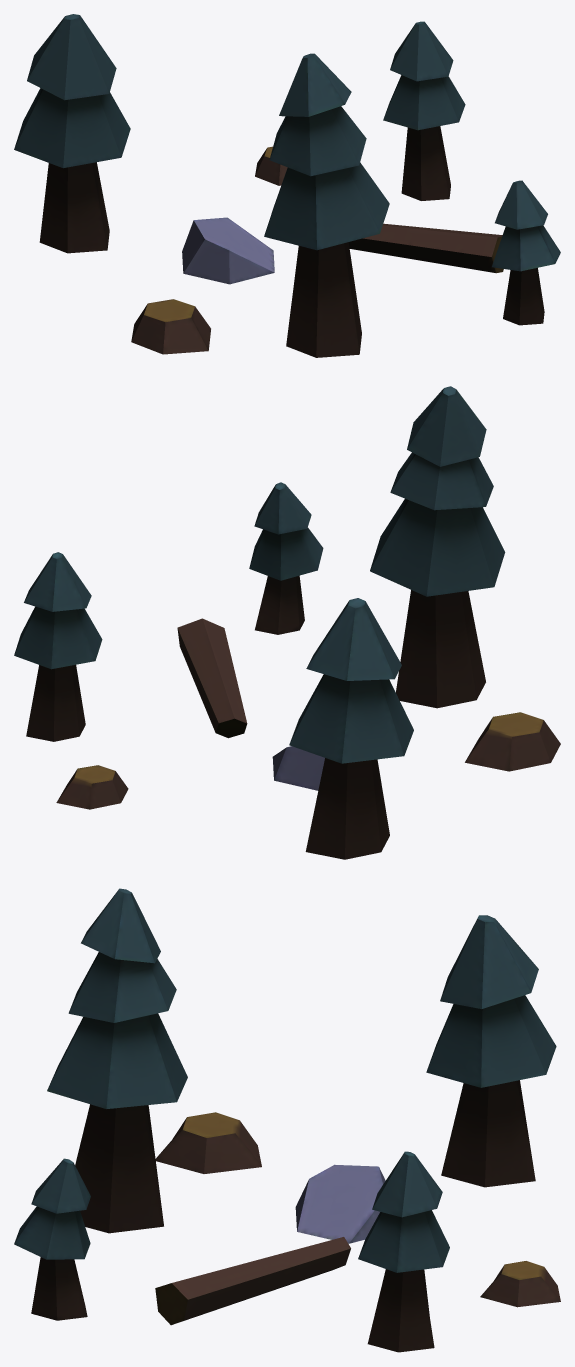
The model's file is tile_wood_6_lod1.fbx.
3 views of the same model, one above another, from view 1: azimuth 30°, elevation 25°; view 2: azimuth 150°, elevation 25°; view 3: azimuth 270°, elevation 25° (orthographic). The views are drawn at different scales.
Parts seen in each view (by area): view 1: wood_6_lod1; view 2: wood_6_lod1; view 3: wood_6_lod1.
Part boxes in pixels (x1,y1,x2,y2): wood_6_lod1: (14,14,560,357); wood_6_lod1: (14,386,560,859); wood_6_lod1: (14,888,560,1352).
Size of the model in its own units: 0.0477 by 0.0315 by 0.0488.
